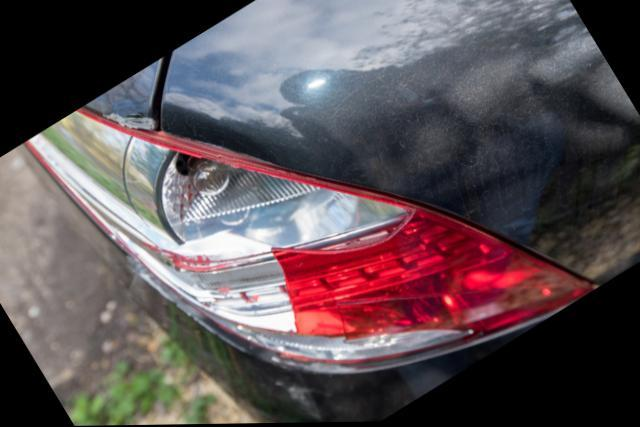lamp broken: (24, 106, 599, 368)
